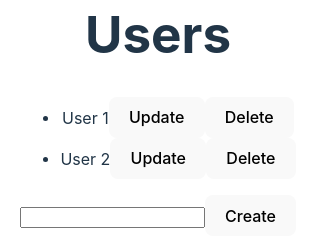
Test: App › should display updated user
Type "Updated User" into the field at x=112, y=217, box [20,207,205,228]
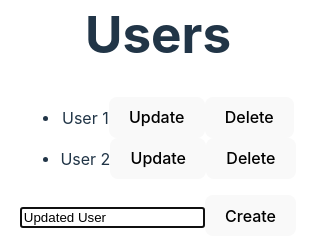
Click the button "Update" next to "User 1" at x=157, y=117, box [109,97,204,138]
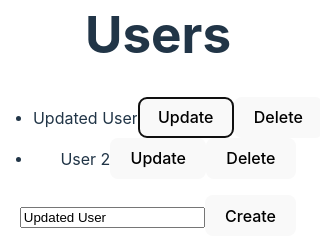
Check: the text "Updated User" is shown, box [33,107,138,127]
